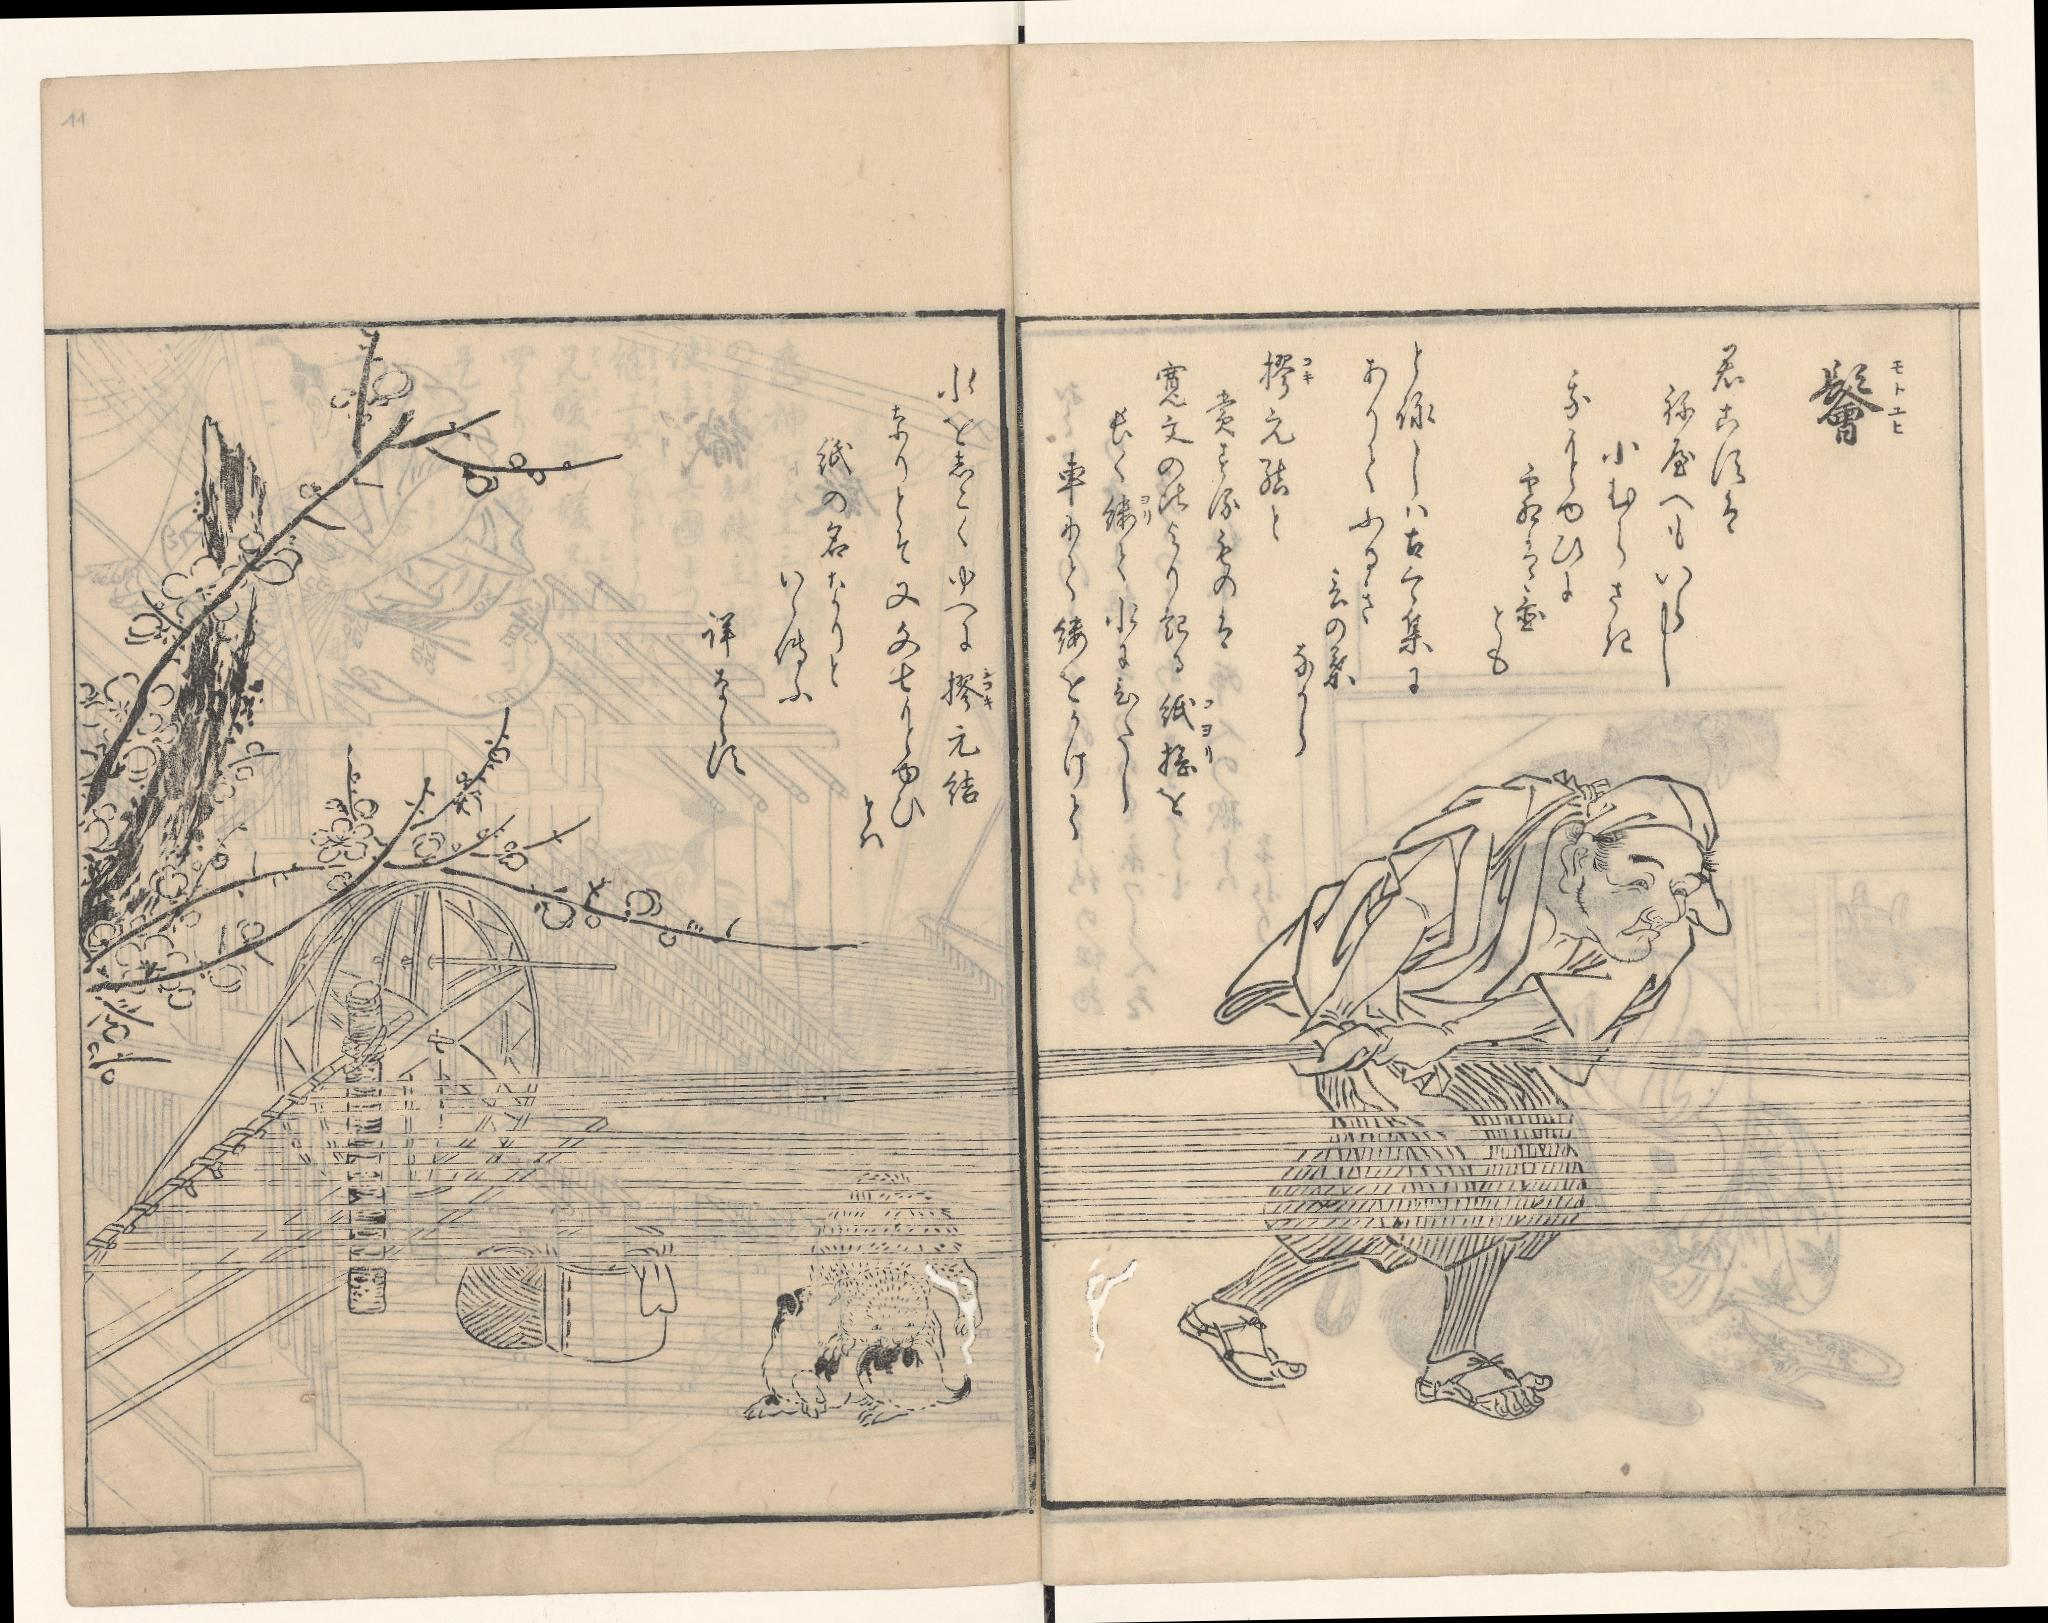MainZone-Character: (1805, 349, 1922, 459), (1255, 346, 1317, 404), (1149, 690, 1218, 737), (939, 664, 1001, 715), (1099, 491, 1155, 540), (1150, 738, 1220, 778)
MainZone-Ruby: (1885, 349, 1913, 439), (977, 667, 999, 710), (1298, 351, 1318, 389), (1197, 695, 1215, 737), (1137, 492, 1155, 527), (1200, 742, 1217, 767)
